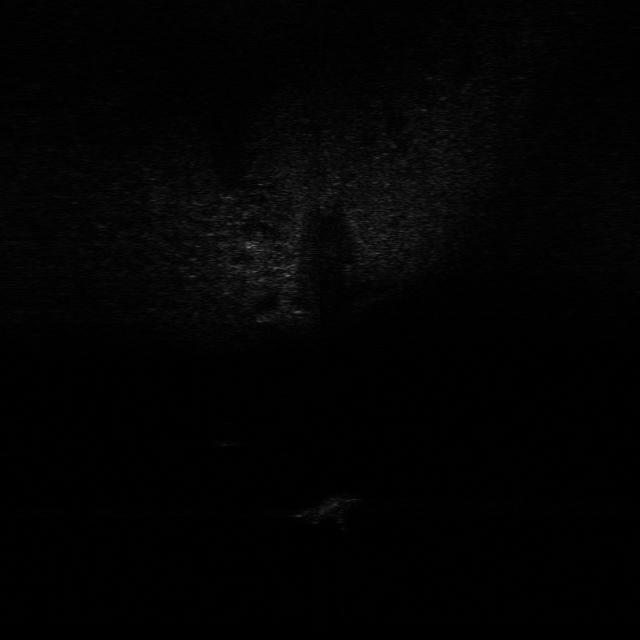ball: (206, 416, 248, 451)
circle cage: (301, 485, 358, 529)
